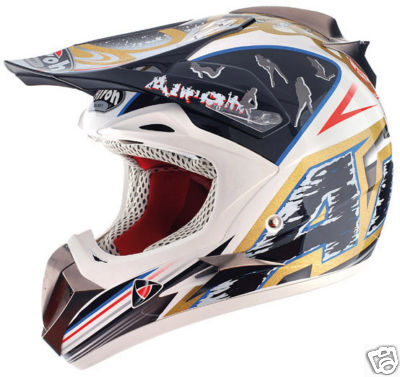helmet: (48, 17, 382, 317)
